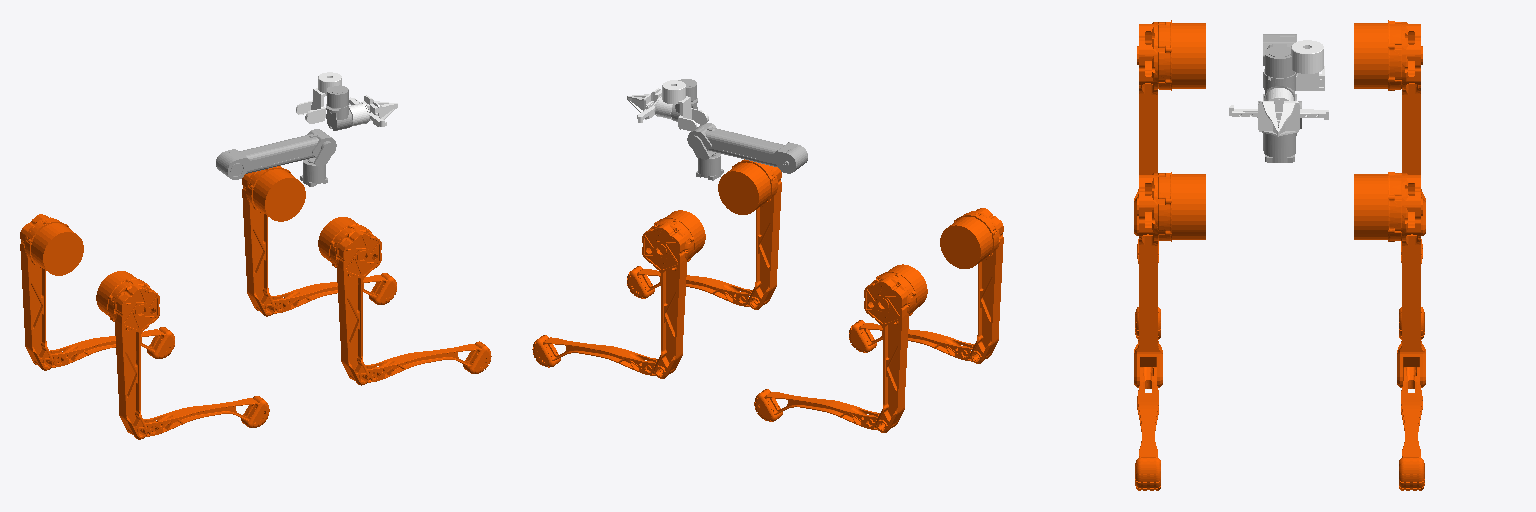
--- What the picture shows (computed from the rendered views, not written in the file) ---
3 views of the same robot in one strip: view 1: azimuth 30°, elevation 25°; view 2: azimuth 150°, elevation 25°; view 3: azimuth 270°, elevation 25° (orthographic).
Robot: panda7 — 26 links, 25 joints (18 revolute, 2 prismatic, 5 fixed); root link base; default pose: joints at zero except 4 at the middle of their limits (FR_calf_joint = -1.49, FL_calf_joint = -1.49, RR_calf_joint = -1.49, RL_calf_joint = -1.49).
Visible links, largest first — view 1: FR_thigh, RR_thigh, RL_thigh, FL_thigh, arm_link2, RR_calf, FR_calf, RL_calf, FL_calf, arm_link4, arm_link5, arm_link6 (+1 smaller); view 2: FL_thigh, RL_thigh, RR_thigh, FR_thigh, arm_link2, RL_calf, FL_calf, FR_calf, RR_calf, arm_link4, arm_link0; view 3: FL_thigh, FR_thigh, RL_thigh, RR_thigh, FR_calf, FL_calf, arm_link4, arm_link5, arm_link6, arm_link0, gripper1, gripper2.
Link boxes in pixels (x1=…): FR_thigh: x1=318, y1=217, x2=381, y2=385; RR_thigh: x1=96, y1=271, x2=159, y2=439; RL_thigh: x1=20, y1=214, x2=83, y2=370; FL_thigh: x1=242, y1=166, x2=305, y2=316; arm_link2: x1=216, y1=129, x2=336, y2=179; RR_calf: x1=128, y1=396, x2=269, y2=436; FR_calf: x1=350, y1=341, x2=491, y2=382; RL_calf: x1=34, y1=327, x2=174, y2=367; FL_calf: x1=256, y1=273, x2=396, y2=313; arm_link4: x1=296, y1=72, x2=341, y2=123; arm_link5: x1=326, y1=85, x2=352, y2=130; arm_link6: x1=349, y1=97, x2=386, y2=126; FL_thigh: x1=642, y1=210, x2=705, y2=378; RL_thigh: x1=864, y1=264, x2=927, y2=432; RR_thigh: x1=940, y1=208, x2=1003, y2=363; FR_thigh: x1=718, y1=159, x2=781, y2=309; arm_link2: x1=687, y1=123, x2=807, y2=173; RL_calf: x1=754, y1=389, x2=895, y2=429; FL_calf: x1=532, y1=335, x2=673, y2=375; FR_calf: x1=627, y1=266, x2=767, y2=306; RR_calf: x1=849, y1=320, x2=989, y2=361; arm_link4: x1=662, y1=80, x2=708, y2=131; arm_link0: x1=696, y1=153, x2=723, y2=180; FL_thigh: x1=1354, y1=172, x2=1425, y2=387; FR_thigh: x1=1134, y1=172, x2=1205, y2=387; RL_thigh: x1=1354, y1=20, x2=1425, y2=235; RR_thigh: x1=1134, y1=20, x2=1205, y2=235; FR_calf: x1=1135, y1=367, x2=1160, y2=490; FL_calf: x1=1399, y1=367, x2=1424, y2=490; arm_link4: x1=1291, y1=40, x2=1324, y2=90; arm_link5: x1=1263, y1=46, x2=1295, y2=100; arm_link6: x1=1229, y1=88, x2=1328, y2=124; arm_link0: x1=1263, y1=133, x2=1296, y2=162; gripper1: x1=1278, y1=101, x2=1299, y2=136; gripper2: x1=1258, y1=101, x2=1277, y2=136.
Size in the robot's own frame: 1.09 by 0.5297 by 0.7669 metres.
16 mesh visuals loaded from 14 distinct referenced files (11 Collada DAE); not drawn: 6 (reference not matched to a file when rendering).

URDF robot description (panda7):
<?xml version="1.0" ?>
<robot name="panda7">
  <material name="black">
    <color rgba="0.0 0.0 0.0 1.0"/>
  </material>
  <material name="blue">
    <color rgba="0.0 0.0 0.8 1.0"/>
  </material>
  <material name="green">
    <color rgba="0.0 0.8 0.0 1.0"/>
  </material>
  <material name="grey">
    <color rgba="0.2 0.2 0.2 1.0"/>
  </material>
  <material name="silver">
    <color rgba="0.9137254901960784 0.9137254901960784 0.8470588235294118 1.0"/>
  </material>
  <material name="orange">
    <color rgba="1.0 0.4235294117647059 0.0392156862745098 1.0"/>
  </material>
  <material name="brown">
    <color rgba="0.8705882352941177 0.8117647058823529 0.7647058823529411 1.0"/>
  </material>
  <material name="red">
    <color rgba="0.8 0.0 0.0 1.0"/>
  </material>
  <material name="white">
    <color rgba="1.0 1.0 1.0 1.0"/>
  </material>
  <link name="base">
    <visual>
      <origin rpy="0 0 0" xyz="0 0 0"/>
      <geometry>
        <mesh filename="../meshes/trunk.dae" scale="1 1 1"/>
      </geometry>
    </visual>
    <collision>
      <origin rpy="0 0 0" xyz="0 0 0"/>
      <geometry>
        <box size="0.99 0.34 0.24"/>
      </geometry>
    </collision>
    <inertial>
      <origin rpy="0 0 0" xyz="0.0014923112 -0.0014397771 -0.0094584260"/>
      <mass value="41.377848"/>
      <inertia ixx="0.47630359" ixy="-3.9611174E-03" ixz="0.020116265" iyy="1.8915135" iyz="-4.4176612E-03" izz="2.1035448"/>
    </inertial>
  </link>
  
  <link
    name="arm_link0">
    <inertial>
      <origin
        xyz="0 0 0.0306919872517665"
        rpy="0 0 0" />
      <mass
        value="0.154950873811881" />
      <inertia
        ixx="7.6280725825903E-05"
        ixy="-2.8331857255032E-21"
        ixz="-9.60864892161926E-21"
        iyy="7.5743677536133E-05"
        iyz="-7.23203741807483E-21"
        izz="6.94178921980713E-05" />
    </inertial>
    <visual>
      <origin
        xyz="0 0 0"
        rpy="0 0 0" />
      <geometry>
        <mesh
          filename="../meshes/link0.dae" />
      </geometry>
      <material
        name="">
        <color
          rgba="0.752941176470588 0.752941176470588 0.752941176470588 1" />
      </material>
    </visual>
    <collision>
      <origin
        xyz="0 0 0"
        rpy="0 0 0" />
      <geometry>
        <mesh
          filename="../meshes/link0.dae" />
      </geometry>
    </collision>
  </link>
  <joint
    name="joint0"
    type="fixed">
    <origin
      xyz="0.332 0. 0.105"
      rpy="0 0 1.57" />
    <parent
      link="base" />
    <child
      link="arm_link0" />
  </joint>
  <link
    name="arm_link1">
    <inertial>
      <origin
        xyz="-0.00243668436201439 -0.006191415441136 0.0184110269010454"
        rpy="0 0 0" />
      <mass
        value="0.0465087787338035" />
      <inertia
        ixx="1.38543050772712E-05"
        ixy="1.14690917508463E-07"
        ixz="-1.53505123825081E-07"
        iyy="1.40483464923309E-05"
        iyz="3.12756534836822E-06"
        izz="1.49283119185331E-05" />
    </inertial>
    <visual>
      <origin
        xyz="0 0 0"
        rpy="0 0 0" />
      <geometry>
        <mesh
          filename="../meshes/link1.dae" />
      </geometry>
      <material
        name="">
        <color
          rgba="0.752941176470588 0.752941176470588 0.752941176470588 1" />
      </material>
    </visual>
    <collision>
      <origin
        xyz="0 0 0"
        rpy="0 0 0" />
      <geometry>
        <mesh
          filename="../meshes/link1.dae" />
      </geometry>
    </collision>
  </link>
  <joint
    name="arm_joint1"
    type="revolute">
    <origin
      xyz="0 0 0.0605000000000002"
      rpy="0 0 0" />
    <parent
      link="arm_link0" />
    <child
      link="arm_link1" />
    <axis
      xyz="0 0 1" />
    <limit
      lower="-3.14"
      upper="3.14"
      effort="100"
      velocity="100" />
  </joint>
  <link
    name="arm_link2">
    <inertial>
      <origin
        xyz="0.132663920183335 0.000103506259278768 -0.0010415189341013"
        rpy="0 0 0" />
      <mass
        value="0.822766943132133" />
      <inertia
        ixx="0.000269943143027721"
        ixy="-2.15689204151916E-05"
        ixz="-1.40510780649704E-07"
        iyy="0.00274078506399191"
        iyz="-3.25705162840667E-08"
        izz="0.00281320873116607" />
    </inertial>
    <visual>
      <origin
        xyz="0 0 0"
        rpy="0 0 0" />
      <geometry>
        <mesh
          filename="../meshes/link2.dae" />
      </geometry>
      <material
        name="">
        <color
          rgba="0.752941176470588 0.752941176470588 0.752941176470588 1" />
      </material>
    </visual>
    <collision>
      <origin
        xyz="0 0 0"
        rpy="0 0 0" />
      <geometry>
        <mesh
          filename="../meshes/link2.dae" />
      </geometry>
    </collision>
  </link>
  <joint
    name="arm_joint2"
    type="revolute">
    <origin
      xyz="0.000749999999995356 -0.0200000000000009 0.0399999999999998"
      rpy="1.5707963267949 0 1.5707963267949" />
    <parent
      link="arm_link1" />
    <child
      link="arm_link2" />
    <axis
      xyz="0 0 -1" />
    <limit
      lower="-3.6"
      upper="0.28"
      effort="100"
      velocity="100" />
  </joint>
  <link
    name="arm_link3">
    <inertial>
      <origin
        xyz="0.141083874666792 -0.053068640664602 -0.00127575943922171"
        rpy="0 0 0" />
      <mass
        value="0.451084119008658" />
      <inertia
        ixx="0.000146463690877388"
        ixy="0.000108278431799258"
        ixz="-1.14918312139153E-05"
        iyy="0.00137487396946499"
        iyz="5.3153018327198E-06"
        izz="0.0014340770881379" />
    </inertial>
    <visual>
      <origin
        xyz="0 0 0"
        rpy="0 0 0" />
      <geometry>
        <mesh
          filename="../meshes/link3.dae" />
      </geometry>
      <material
        name="">
        <color
          rgba="0.752941176470588 0.752941176470588 0.752941176470588 1" />
      </material>
    </visual>
    <collision>
      <origin
        xyz="0 0 0"
        rpy="0 0 0" />
      <geometry>
        <mesh
          filename="../meshes/link3.dae" />
      </geometry>
    </collision>
  </link>
  <joint
    name="arm_joint3"
    type="revolute">
    <origin
      xyz="0.264 0 0"
      rpy="0 0 3.1416" />
    <parent
      link="arm_link2" />
    <child
      link="arm_link3" />
    <axis
      xyz="0 0 -1" />
    <limit
      lower="0"
      upper="3.14"
      effort="100"
      velocity="100" />
  </joint>
  <link
    name="arm_link4">
    <inertial>
      <origin
        xyz="0.0267887385724194 -0.0164315570697556 -0.0565411902556625"
        rpy="0 0 0" />
      <mass
        value="0.0428548065855341" />
      <inertia
        ixx="2.39253224731971E-05"
        ixy="3.43459103284642E-06"
        ixz="-4.25311575215457E-06"
        iyy="2.5667513703355E-05"
        iyz="2.17605924028942E-06"
        izz="2.41189195200957E-05" />
    </inertial>
    <visual>
      <origin
        xyz="0 0 0"
        rpy="0 0 0" />
      <geometry>
        <mesh
          filename="../meshes/link4.dae" />
      </geometry>
      <material
        name="">
        <color
          rgba="1 1 1 1" />
      </material>
    </visual>
    <collision>
      <origin
        xyz="0 0 0"
        rpy="0 0 0" />
      <geometry>
        <mesh
          filename="../meshes/link4.dae" />
      </geometry>
    </collision>
  </link>

  <!-- xyz="0.251713743388397 -0.0670979052394916 0.049677" -->
  <joint
    name="arm_joint4"
    type="revolute">
    <origin
      xyz="0.251713743388397 -0.0670979052394916 0.049677"
      rpy="0 0 0" />
    <parent
      link="arm_link3" />
    <child
      link="arm_link4" />
    <axis
      xyz="0 0 -1" />
    <limit
      lower="-1.571"
      upper="1.571"
      effort="100"
      velocity="100" />
  </joint>
  <link
    name="arm_link5">
    <inertial>
      <origin
        xyz="7.39496806869756E-05 0.00390756676405528 -0.0521915532008786"
        rpy="0 0 0" />
      <mass
        value="0.208851517655746" />
      <inertia
        ixx="6.88759462513615E-05"
        ixy="1.74076185008027E-07"
        ixz="9.47036416876195E-09"
        iyy="7.82640881069056E-05"
        iyz="-8.13674688946157E-07"
        izz="7.80502525587007E-05" />
    </inertial>
    <visual>
      <origin
        xyz="0 0 0"
        rpy="0 0 0" />
      <geometry>
        <mesh
          filename="../meshes/link5.dae" />
      </geometry>
      <material
        name="">
        <color
          rgba="0.752941176470588 0.752941176470588 0.752941176470588 1" />
      </material>
    </visual>
    <collision>
      <origin
        xyz="0 0 0"
        rpy="0 0 0" />
      <geometry>
        <mesh
          filename="../meshes/link5.dae" />
      </geometry>
    </collision>
  </link>
  <joint
    name="arm_joint5"
    type="revolute">
    <origin
      xyz="0.0600362566116027 -0.0729020947605091 -0.0504267019672398"
      rpy="1.5707963267949 1.5707963267949 0" />
    <parent
      link="arm_link4" />
    <child
      link="arm_link5" />
    <axis
      xyz="0 0 1" />
    <limit
      lower="-1.571"
      upper="1.571"
      effort="100"
      velocity="100" />
  </joint>
  <link
    name="arm_link6">
    <inertial>
      <origin
        xyz="0.000493130461631647 9.84795725265109E-05 0.0316954745107463"
        rpy="0 0 0" />
      <mass
        value="0.123916977852968" />
      <inertia
        ixx="2.50413167035512E-05"
        ixy="9.83170018920875E-07"
        ixz="1.40401305267416E-06"
        iyy="0.000101574358657965"
        iyz="-1.83024792957642E-08"
        izz="0.000113465016821662" />
    </inertial>
    <visual>
      <origin
        xyz="0 0 0"
        rpy="0 0 0" />
      <geometry>
        <mesh
          filename="../meshes/link6.dae" />
      </geometry>
      <material
        name="">
        <color
          rgba="1 1 1 1" />
      </material>
    </visual>
    <collision>
      <origin
        xyz="0 0 0"
        rpy="0 0 0" />
      <geometry>
        <mesh
          filename="../meshes/link6.dae" />
      </geometry>
    </collision>
  </link>
  <joint
    name="arm_joint6"
    type="revolute">
    <origin
      xyz="0.00046414 0.028539 -0.082947"
      rpy="-1.5708 0 0" />
    <parent
      link="arm_link5" />
    <child
      link="arm_link6" />
    <axis
      xyz="-0.015856 0 -0.99987" />
    <limit
      lower="-3.14"
      upper="3.14"
      effort="100"
      velocity="100" />
  </joint>
  <link
    name="gripper1">
    <inertial>
      <origin
        xyz="-0.010949 -0.007984 -0.0053619"
        rpy="0 0 0" />
      <mass
        value="0.027146" />
      <inertia
        ixx="8.9441E-06"
        ixy="6.8743E-07"
        ixz="-3.1012E-06"
        iyy="1.1334E-05"
        iyz="1.6273E-07"
        izz="1.5094E-05" />
    </inertial>
    <visual>
      <origin
        xyz="0 0 0"
        rpy="0 0 0" />
      <geometry>
        <mesh
          filename="../meshes/gripper1.dae" />
      </geometry>
      <material
        name="">
        <color
          rgba="1 1 1 1" />
      </material>
    </visual>
    <collision>
      <origin
        xyz="0 0 0"
        rpy="0 0 0" />
      <geometry>
        <mesh
          filename="../meshes/gripper1.dae" />
      </geometry>
    </collision>
  </link>
  <joint
    name="arm_joint7"
    type="prismatic">
    <origin
      xyz="-0.0218441952806044 -0.00464472233071411 0.070282758534191"
      rpy="0.00229467780858847 1.55494011731642 -3.14159265358975" />
    <parent
      link="arm_link6" />
    <child
      link="gripper1" />
    <axis
      xyz="0 0 1" />
    <limit
      lower="0"
      upper="0.04764"
      effort="100"
      velocity="10" />
  </joint>
  <link
    name="gripper2">
    <inertial>
      <origin
        xyz="-0.011249 0.0029863 -0.0053619"
        rpy="0 0 0" />
      <mass
        value="0.027146" />
      <inertia
        ixx="9.1856E-06"
        ixy="1.6166E-06"
        ixz="-3.1012E-06"
        iyy="1.1334E-05"
        iyz="6.1248E-07"
        izz="1.5336E-05" />
    </inertial>
    <visual>
      <origin
        xyz="0 0 0"
        rpy="0 0 0" />
      <geometry>
        <mesh
          filename="../meshes/gripper2.dae" />
      </geometry>
      <material
        name="">
        <color
          rgba="1 1 1 1" />
      </material>
    </visual>
    <collision>
      <origin
        xyz="0 0 0"
        rpy="0 0 0" />
      <geometry>
        <mesh
          filename="../meshes/gripper2.dae" />
      </geometry>
    </collision>
  </link>
  <joint
    name="arm_joint8"
    type="prismatic">
    <origin
      xyz="0.0240124026414632 -0.00444997198895219 0.0692555480519135"
      rpy="-3.1392979757812 1.55494011731642 -3.14159265358975" />
    <parent
      link="arm_link6" />
    <child
      link="gripper2" />
    <axis
      xyz="0 0 -1" />
    <limit
      lower="-0.04764"
      upper="0"
      effort="100"
      velocity="10" />
  </joint>

  <joint name="FR_hip_joint" type="revolute">
    <origin rpy="0 0 0" xyz="0.325 -0.1125 0"/>
    <parent link="base"/>
    <child link="FR_hip"/>
    <axis xyz="1 0 0"/>
    <dynamics damping="0" friction="0"/>
    <limit effort="160" lower="-0.87" upper="0.69" velocity="19.3"/>
  </joint>
  <link name="FR_hip">
    <visual>
      <origin rpy="3.141592653589793 0 0" xyz="0 0 0"/>
      <geometry>
        <mesh filename="../meshes/hip.dae" scale="1 1 1"/>
      </geometry>
      <material name="orange"/>
    </visual>
    <inertial>
      <origin rpy="0 0 0" xyz="-0.0011794 0.02693 -5.8859E-07"/>
      <mass value="2.7264"/>
      <inertia ixx="0.0043529" ixy="7.7592E-06" ixz="-9.9737E-09" iyy="0.0056391" iyz="1.7393E-08" izz="0.0047569"/>
    </inertial>
  </link>
  <joint name="FR_thigh_joint" type="revolute">
    <origin rpy="0 0 0" xyz="0 -0.126375 0"/>
    <parent link="FR_hip"/>
    <child link="FR_thigh"/>
    <axis xyz="0 1 0"/>
    <dynamics damping="0" friction="0"/>
    <limit effort="180" lower="-1.78" upper="3.40" velocity="21.6"/>
  </joint>
  <link name="FR_thigh">
    <visual>
      <origin rpy="0 0 0" xyz="0 0 0"/>
      <geometry>
        <mesh filename="../meshes/thigh_mirror.dae" scale="1 1 1"/>
      </geometry>
      <material name="orange"/>
    </visual>
    <inertial>
      <origin rpy="0 0 0" xyz="0.008023 0.0407086 -0.0477057"/>
      <mass value="4.5843711"/>
      <inertia ixx="0.0568903" ixy="-1.3859024E-03" ixz="-0.0040888" iyy="0.055707534" iyz="-0.0090795" izz="0.0119193"/>
    </inertial>
  </link>
  <joint name="FR_calf_joint" type="revolute">
    <origin rpy="0 0 0" xyz="0 0 -0.34"/>
    <parent link="FR_thigh"/>
    <child link="FR_calf"/>
    <axis xyz="0 1 0"/>
    <dynamics damping="0" friction="0"/>
    <limit effort="452" lower="-2.53" upper="-0.45" velocity="18.8"/>
  </joint>
  <link name="FR_calf">
    <visual>
      <origin rpy="0 0 0" xyz="0 0 0"/>
      <geometry>
        <mesh filename="../meshes/calf.dae" scale="1 1 1"/>
      </geometry>
      <material name="orange"/>
    </visual>
    <collision>
      <origin rpy="0 1.5707963267948966 0" xyz="0.0 0 -0.17"/>
      <geometry>
        <box size="0.25 0.04 0.0495"/>
      </geometry>
    </collision>
    <inertial>
      <origin rpy="0 0 0" xyz="-4.1136934E-03 -2.2641006E-06 -0.18227639"/>
      <mass value="0.82150729"/>
      <inertia ixx="0.017546212" ixy="-2.5076089E-09" ixz="-3.8977294E-05" iyy="0.017775449" iyz="-3.0610477E-07" izz="4.2961251E-04"/>
    </inertial>
  </link>
  <joint name="FR_foot_fixed" type="fixed" dont_collapse="true">
    <origin rpy="0 0 0" xyz="0 0 -0.34"/>
    <parent link="FR_calf"/>
    <child link="FR_FOOT"/>
  </joint>
  <link name="FR_FOOT">
    <collision>
      <origin rpy="0 0 0" xyz="0 0 0"/>
      <geometry>
        <sphere radius="0.045"/>
      </geometry>
    </collision>
    <inertial>
      <mass value="0.01"/>
      <inertia ixx="1.000e-09" ixy="0.0" ixz="0.0" iyy="1.000e-09" iyz="0.0" izz="1.000e-09"/>
    </inertial>
  </link>
  <joint name="FL_hip_joint" type="revolute">
    <origin rpy="0 0 0" xyz="0.325 0.1125 0"/>
    <parent link="base"/>
    <child link="FL_hip"/>
    <axis xyz="1 0 0"/>
    <dynamics damping="0" friction="0"/>
    <limit effort="160" lower="-0.69" upper="0.87" velocity="19.3"/>
  </joint>
  <link name="FL_hip">
    <visual>
      <origin rpy="0 0 0" xyz="0 0 0"/>
      <geometry>
        <mesh filename="../meshes/hip.dae" scale="1 1 1"/>
      </geometry>
      <material name="orange"/>
    </visual>
    <inertial>
      <origin rpy="0 0 0" xyz="-0.0011794 -0.02693 5.8859E-07"/>
      <mass value="2.7264"/>
      <inertia ixx="0.0043529" ixy="-7.7592E-06" ixz="9.9737E-09" iyy="0.0056391" iyz="1.7393E-08" izz="0.0047569"/>
    </inertial>
  </link>
  <joint name="FL_thigh_joint" type="revolute">
    <origin rpy="0 0 0" xyz="0 0.126375 0"/>
    <parent link="FL_hip"/>
    <child link="FL_thigh"/>
    <axis xyz="0 1 0"/>
    <dynamics damping="0" friction="0"/>
    <limit effort="180" lower="-1.78" upper="3.40" velocity="21.6"/>
  </joint>
  <link name="FL_thigh">
    <visual>
      <origin rpy="0 0 0" xyz="0 0 0"/>
      <geometry>
        <mesh filename="../meshes/thigh.dae" scale="1 1 1"/>
      </geometry>
      <material name="orange"/>
    </visual>
    <inertial>
      <origin rpy="0 0 0" xyz="0.008023 -0.0407086 -0.0477057"/>
      <mass value="4.5843711"/>
      <inertia ixx="0.0568903" ixy="1.3859024E-03" ixz="-0.0040888" iyy="0.055707534" iyz="0.0090795" izz="0.0119193"/>
    </inertial>
  </link>
  <joint name="FL_calf_joint" type="revolute">
    <origin rpy="0 0 0" xyz="0 0 -0.34"/>
    <parent link="FL_thigh"/>
    <child link="FL_calf"/>
    <axis xyz="0 1 0"/>
    <dynamics damping="0" friction="0"/>
    <limit effort="452" lower="-2.53" upper="-0.45" velocity="18.8"/>
  </joint>
  <link name="FL_calf">
    <visual>
      <origin rpy="0 0 0" xyz="0 0 0"/>
      <geometry>
        <mesh filename="../meshes/calf.dae" scale="1 1 1"/>
      </geometry>
      <material name="orange"/>
    </visual>
    <collision>
      <origin rpy="0 1.5707963267948966 0" xyz="0.0 0 -0.17"/>
      <geometry>
        <box size="0.25 0.04 0.0495"/>
      </geometry>
    </collision>
    <inertial>
      <origin rpy="0 0 0" xyz="-4.1136934E-03 2.2641006E-06 -0.18227639"/>
      <mass value="0.82150729"/>
      <inertia ixx="0.017546212" ixy="-2.5076089E-09" ixz="3.8977294E-05" iyy="0.017775449" iyz="3.0610477E-07" izz="4.2961251E-04"/>
    </inertial>
  </link>
  <joint name="FL_foot_fixed" type="fixed" dont_collapse="true">
    <origin rpy="0 0 0" xyz="0 0 -0.34"/>
    <parent link="FL_calf"/>
    <child link="FL_FOOT"/>
  </joint>
  <link name="FL_FOOT">
    <collision>
      <origin rpy="0 0 0" xyz="0 0 0"/>
      <geometry>
        <sphere radius="0.045"/>
      </geometry>
    </collision>
    <inertial>
      <mass value="0.01"/>
      <inertia ixx="1.000e-09" ixy="0.0" ixz="0.0" iyy="1.000e-09" iyz="0.0" izz="1.000e-09"/>
    </inertial>
  </link>
  <joint name="RR_hip_joint" type="revolute">
    <origin rpy="0 0 0" xyz="-0.325 -0.1125 0"/>
    <parent link="base"/>
    <child link="RR_hip"/>
    <axis xyz="1 0 0"/>
    <dynamics damping="0" friction="0"/>
    <limit effort="160" lower="-0.87" upper="0.69" velocity="19.3"/>
  </joint>
  <link name="RR_hip">
    <visual>
      <origin rpy="3.141592653589793 3.141592653589793 0" xyz="0 0 0"/>
      <geometry>
        <mesh filename="../meshes/hip.dae" scale="1 1 1"/>
      </geometry>
      <material name="orange"/>
    </visual>
    <inertial>
      <origin rpy="0 0 0" xyz="0.0011794 0.02693 5.8859E-07"/>
      <mass value="2.7264"/>
      <inertia ixx="0.0043529" ixy="-7.7592E-06" ixz="-9.9737E-09" iyy="0.0056391" iyz="-1.7393E-08" izz="0.0047569"/>
    </inertial>
  </link>
  <joint name="RR_thigh_joint" type="revolute">
    <origin rpy="0 0 0" xyz="0 -0.126375 0"/>
    <parent link="RR_hip"/>
    <child link="RR_thigh"/>
    <axis xyz="0 1 0"/>
    <dynamics damping="0" friction="0"/>
    <limit effort="180" lower="-1.30" upper="4.00" velocity="21.6"/>
  </joint>
  <link name="RR_thigh">
    <visual>
      <origin rpy="0 0 0" xyz="0 0 0"/>
      <geometry>
        <mesh filename="../meshes/thigh_mirror.dae" scale="1 1 1"/>
      </geometry>
      <material name="orange"/>
    </visual>
    <inertial>
      <origin rpy="0 0 0" xyz="0.008023 0.0407086 -0.0477057"/>
      <mass value="4.5843711"/>
      <inertia ixx="0.0568903" ixy="-1.3859024E-03" ixz="-0.0040888" iyy="0.055707534" iyz="-0.0090795" izz="0.0119193"/>
    </inertial>
  </link>
  <joint name="RR_calf_joint" type="revolute">
    <origin rpy="0 0 0" xyz="0 0 -0.34"/>
    <parent link="RR_thigh"/>
    <child link="RR_calf"/>
    <axis xyz="0 1 0"/>
    <dynamics damping="0" friction="0"/>
    <limit effort="452" lower="-2.53" upper="-0.45" velocity="18.8"/>
  </joint>
  <link name="RR_calf">
    <visual>
      <origin rpy="0 0 0" xyz="0 0 0"/>
      <geometry>
        <mesh filename="../meshes/calf.dae" scale="1 1 1"/>
      </geometry>
      <material name="orange"/>
    </visual>
    <collision>
      <origin rpy="0 1.5707963267948966 0" xyz="0.0 0 -0.17"/>
      <geometry>
        <box size="0.25 0.04 0.0495"/>
      </geometry>
    </collision>
    <inertial>
      <origin rpy="0 0 0" xyz="-4.1136934E-03 -2.2641006E-06 -0.18227639"/>
      <mass value="0.82150729"/>
      <inertia ixx="0.017546212" ixy="-2.5076089E-09" ixz="-3.8977294E-05" iyy="0.017775449" iyz="-3.0610477E-07" izz="4.2961251E-04"/>
    </inertial>
  </link>
  <joint name="RR_foot_fixed" type="fixed" dont_collapse="true">
    <origin rpy="0 0 0" xyz="0 0 -0.34"/>
    <parent link="RR_calf"/>
    <child link="RR_FOOT"/>
  </joint>
  <link name="RR_FOOT">
    <collision>
      <origin rpy="0 0 0" xyz="0 0 0"/>
      <geometry>
        <sphere radius="0.045"/>
      </geometry>
    </collision>
    <inertial>
      <mass value="0.01"/>
      <inertia ixx="1.000e-09" ixy="0.0" ixz="0.0" iyy="1.000e-09" iyz="0.0" izz="1.000e-09"/>
    </inertial>
  </link>
  <joint name="RL_hip_joint" type="revolute">
    <origin rpy="0 0 0" xyz="-0.325 0.1125 0"/>
    <parent link="base"/>
    <child link="RL_hip"/>
    <axis xyz="1 0 0"/>
    <dynamics damping="0" friction="0"/>
    <limit effort="160" lower="-0.69" upper="0.87" velocity="19.3"/>
  </joint>
  <link name="RL_hip">
    <visual>
      <origin rpy="0 3.141592653589793 0" xyz="0 0 0"/>
      <geometry>
        <mesh filename="../meshes/hip.dae" scale="1 1 1"/>
      </geometry>
      <material name="orange"/>
    </visual>
    <inertial>
      <origin rpy="0 0 0" xyz="0.0011794 -0.02693 -5.8859E-07"/>
      <mass value="2.7264"/>
      <inertia ixx="0.0043529" ixy="7.7592E-06" ixz="9.9737E-09" iyy="0.0056391" iyz="-1.7393E-08" izz="0.0047569"/>
    </inertial>
  </link>
  <joint name="RL_thigh_joint" type="revolute">
    <origin rpy="0 0 0" xyz="0 0.126375 0"/>
    <parent link="RL_hip"/>
    <child link="RL_thigh"/>
    <axis xyz="0 1 0"/>
    <dynamics damping="0" friction="0"/>
    <limit effort="180" lower="-1.30" upper="4.00" velocity="21.6"/>
  </joint>
  <link name="RL_thigh">
    <visual>
      <origin rpy="0 0 0" xyz="0 0 0"/>
      <geometry>
        <mesh filename="../meshes/thigh.dae" scale="1 1 1"/>
      </geometry>
      <material name="orange"/>
    </visual>
    <inertial>
      <origin rpy="0 0 0" xyz="0.008023 -0.0407086 -0.0477057"/>
      <mass value="4.5843711"/>
      <inertia ixx="0.0568903" ixy="1.3859024E-03" ixz="-0.0040888" iyy="0.055707534" iyz="0.0090795" izz="0.0119193"/>
    </inertial>
  </link>
  <joint name="RL_calf_joint" type="revolute">
    <origin rpy="0 0 0" xyz="0 0 -0.34"/>
    <parent link="RL_thigh"/>
    <child link="RL_calf"/>
    <axis xyz="0 1 0"/>
    <dynamics damping="0" friction="0"/>
    <limit effort="452" lower="-2.53" upper="-0.45" velocity="18.8"/>
  </joint>
  <link name="RL_calf">
    <visual>
      <origin rpy="0 0 0" xyz="0 0 0"/>
      <geometry>
        <mesh filename="../meshes/calf.dae" scale="1 1 1"/>
      </geometry>
      <material name="orange"/>
    </visual>
    <collision>
      <origin rpy="0 1.5707963267948966 0" xyz="0.0 0 -0.17"/>
      <geometry>
        <box size="0.25 0.04 0.0495"/>
      </geometry>
    </collision>
    <inertial>
      <origin rpy="0 0 0" xyz="-4.1136934E-03 2.2641006E-06 -0.18227639"/>
      <mass value="0.82150729"/>
      <inertia ixx="0.017546212" ixy="-2.5076089E-09" ixz="3.8977294E-05" iyy="0.017775449" iyz="3.0610477E-07" izz="4.2961251E-04"/>
    </inertial>
  </link>
  <joint name="RL_foot_fixed" type="fixed" dont_collapse="true">
    <origin rpy="0 0 0" xyz="0 0 -0.34"/>
    <parent link="RL_calf"/>
    <child link="RL_FOOT"/>
  </joint>
  <link name="RL_FOOT">
    <collision>
      <origin rpy="0 0 0" xyz="0 0 0"/>
      <geometry>
        <sphere radius="0.045"/>
      </geometry>
    </collision>
    <inertial>
      <mass value="0.01"/>
      <inertia ixx="1.000e-09" ixy="0.0" ixz="0.0" iyy="1.000e-09" iyz="0.0" izz="1.000e-09"/>
    </inertial>
  </link>
</robot>
